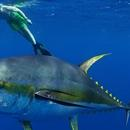Scombridae -Tunas-: (0, 48, 130, 130)
